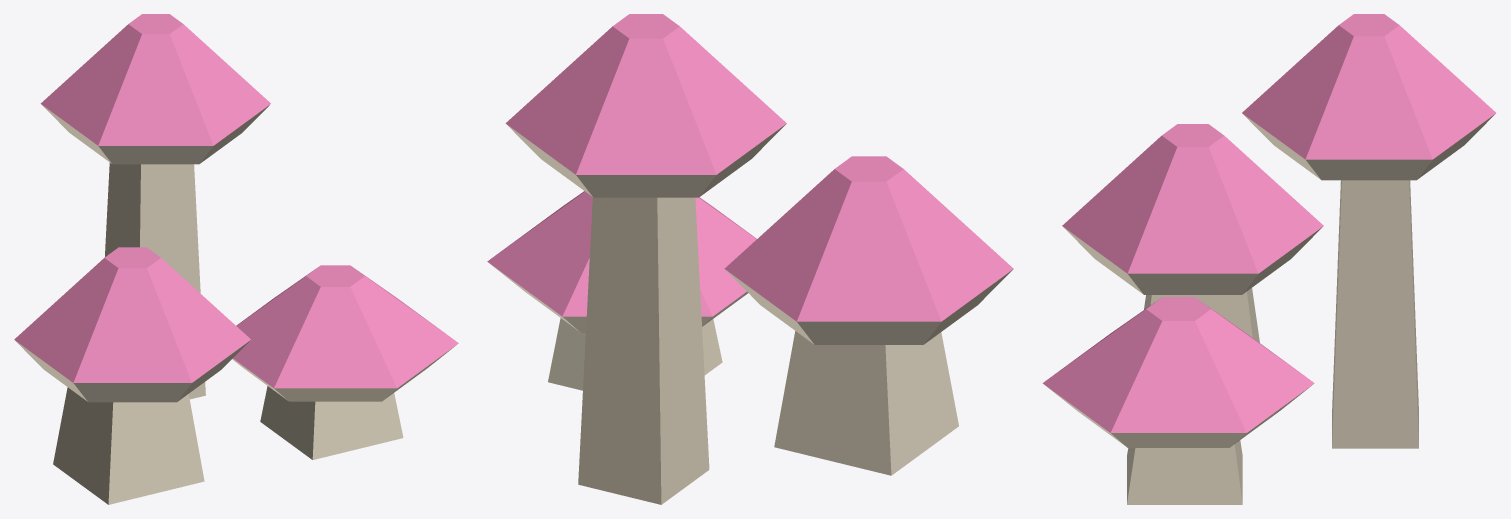
File: mushroom_red.glb
3 views of the same model, side by side, from view 1: azimuth 30°, elevation 25°; view 2: azimuth 150°, elevation 25°; view 3: azimuth 270°, elevation 25° (orthographic). The views are drawn at different scales.
Visible parts, largest first — view 1: mushroom_redGroup; view 2: mushroom_redGroup; view 3: mushroom_redGroup.
Boxes of the visible parts, x1,y1,x2,y2 form: mushroom_redGroup: (14, 14, 458, 504); mushroom_redGroup: (487, 14, 1013, 504); mushroom_redGroup: (1042, 14, 1495, 504).
Bounding box in the file's own units: 0.5393 × 0.501 × 0.5084.
